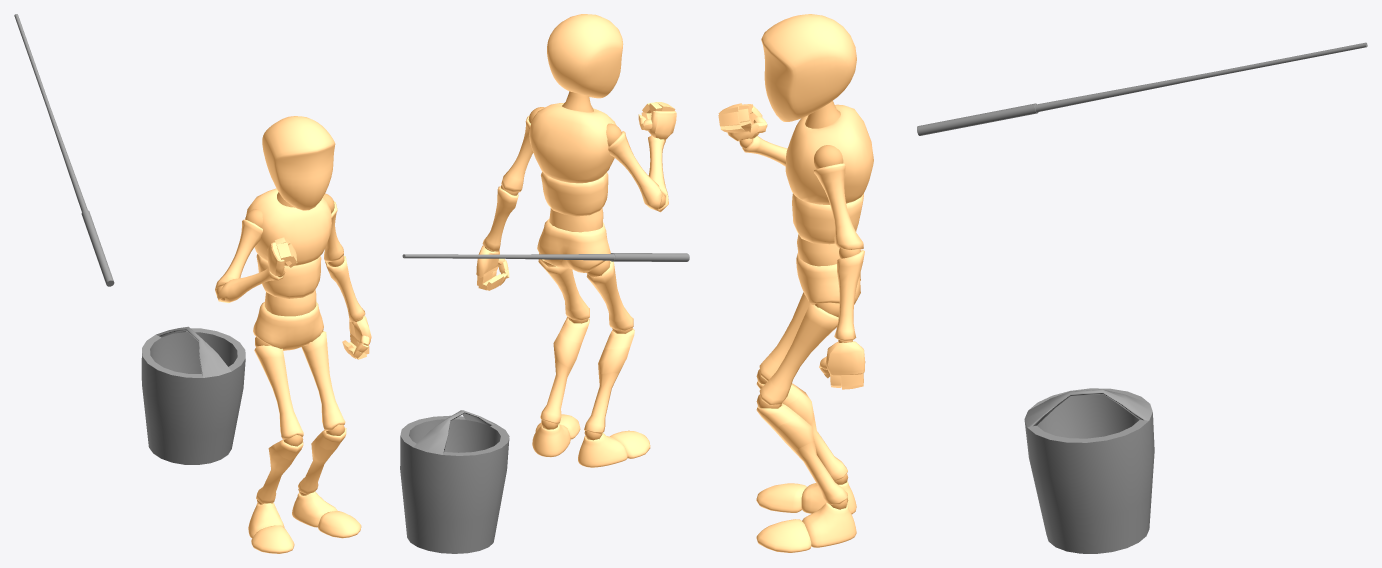
Rendered from bony.fbx.
3 renders of one model, left to right at view 1: azimuth 30°, elevation 25°; view 2: azimuth 150°, elevation 25°; view 3: azimuth 270°, elevation 25°, orthographic. The views are drawn at different scales.
Parts seen in each view (by area): view 1: pCylinder2, Ultimate_Bony_v1_0_5:Bony_head, Ultimate_Bony_v1_0_5:Bony_chest, Ultimate_Bony_v1_0_5:Bony_R_leg, Ultimate_Bony_v1_0_5:Bony_L_leg, Ultimate_Bony_v1_0_5:Bony_pelvis, Ultimate_Bony_v1_0_5:Bony_R_arm, pCylinder1, Ultimate_Bony_v1_0_5:Bony_spine2, Ultimate_Bony_v1_0_5:Bony_L_arm, Ultimate_Bony_v1_0_5:Bony_L_foot, Ultimate_Bony_v1_0_5:Bony_R_toe (+3 smaller); view 2: pCylinder2, Ultimate_Bony_v1_0_5:Bony_chest, Ultimate_Bony_v1_0_5:Bony_head, Ultimate_Bony_v1_0_5:Bony_R_leg, Ultimate_Bony_v1_0_5:Bony_L_leg, Ultimate_Bony_v1_0_5:Bony_pelvis, Ultimate_Bony_v1_0_5:Bony_R_arm, Ultimate_Bony_v1_0_5:Bony_spine2, Ultimate_Bony_v1_0_5:Bony_L_arm, pCylinder1, Ultimate_Bony_v1_0_5:Bony_R_foot, Ultimate_Bony_v1_0_5:Bony_L_foot (+5 smaller); view 3: pCylinder2, Ultimate_Bony_v1_0_5:Bony_head, Ultimate_Bony_v1_0_5:Bony_L_leg, Ultimate_Bony_v1_0_5:Bony_chest, Ultimate_Bony_v1_0_5:Bony_L_arm, pCylinder1, Ultimate_Bony_v1_0_5:Bony_R_leg, Ultimate_Bony_v1_0_5:Bony_spine2, Ultimate_Bony_v1_0_5:Bony_L_foot, Ultimate_Bony_v1_0_5:Bony_pelvis, Ultimate_Bony_v1_0_5:Bony_L_toe, Ultimate_Bony_v1_0_5:Bony_L_hand (+3 smaller).
Boxes of the visible parts, <box> form: pCylinder2: <box>141,326,245,464</box>; Ultimate_Bony_v1_0_5:Bony_head: <box>262,116,335,210</box>; Ultimate_Bony_v1_0_5:Bony_chest: <box>246,188,331,266</box>; Ultimate_Bony_v1_0_5:Bony_R_leg: <box>254,345,303,503</box>; Ultimate_Bony_v1_0_5:Bony_L_leg: <box>298,331,346,494</box>; Ultimate_Bony_v1_0_5:Bony_pelvis: <box>253,302,323,350</box>; Ultimate_Bony_v1_0_5:Bony_R_arm: <box>215,219,285,302</box>; pCylinder1: <box>14,14,114,286</box>; Ultimate_Bony_v1_0_5:Bony_spine2: <box>256,254,321,298</box>; Ultimate_Bony_v1_0_5:Bony_L_arm: <box>324,201,365,321</box>; Ultimate_Bony_v1_0_5:Bony_L_foot: <box>292,491,337,527</box>; Ultimate_Bony_v1_0_5:Bony_R_toe: <box>251,525,294,553</box>; pCylinder2: <box>400,410,509,553</box>; Ultimate_Bony_v1_0_5:Bony_chest: <box>529,103,616,183</box>; Ultimate_Bony_v1_0_5:Bony_head: <box>547,14,623,98</box>; Ultimate_Bony_v1_0_5:Bony_R_leg: <box>584,261,634,433</box>; Ultimate_Bony_v1_0_5:Bony_L_leg: <box>538,253,589,423</box>; Ultimate_Bony_v1_0_5:Bony_pelvis: <box>537,218,610,272</box>; Ultimate_Bony_v1_0_5:Bony_R_arm: <box>608,131,668,212</box>; Ultimate_Bony_v1_0_5:Bony_spine2: <box>541,172,608,216</box>; Ultimate_Bony_v1_0_5:Bony_L_arm: <box>482,116,533,251</box>; pCylinder1: <box>402,253,689,261</box>; Ultimate_Bony_v1_0_5:Bony_R_foot: <box>578,433,627,467</box>; Ultimate_Bony_v1_0_5:Bony_L_foot: <box>532,424,570,457</box>; pCylinder2: <box>1024,388,1154,553</box>; Ultimate_Bony_v1_0_5:Bony_head: <box>761,14,856,121</box>; Ultimate_Bony_v1_0_5:Bony_L_leg: <box>756,304,847,504</box>; Ultimate_Bony_v1_0_5:Bony_chest: <box>785,104,873,204</box>; Ultimate_Bony_v1_0_5:Bony_L_arm: <box>814,163,864,340</box>; pCylinder1: <box>917,42,1367,135</box>; Ultimate_Bony_v1_0_5:Bony_R_leg: <box>756,292,847,480</box>; Ultimate_Bony_v1_0_5:Bony_spine2: <box>792,193,863,244</box>; Ultimate_Bony_v1_0_5:Bony_L_foot: <box>802,502,856,547</box>; Ultimate_Bony_v1_0_5:Bony_pelvis: <box>796,252,860,304</box>; Ultimate_Bony_v1_0_5:Bony_L_toe: <box>756,519,811,552</box>; Ultimate_Bony_v1_0_5:Bony_L_hand: <box>825,341,865,375</box>.
Size of the model in its own units: 5.07 by 8.77 by 10.08.
